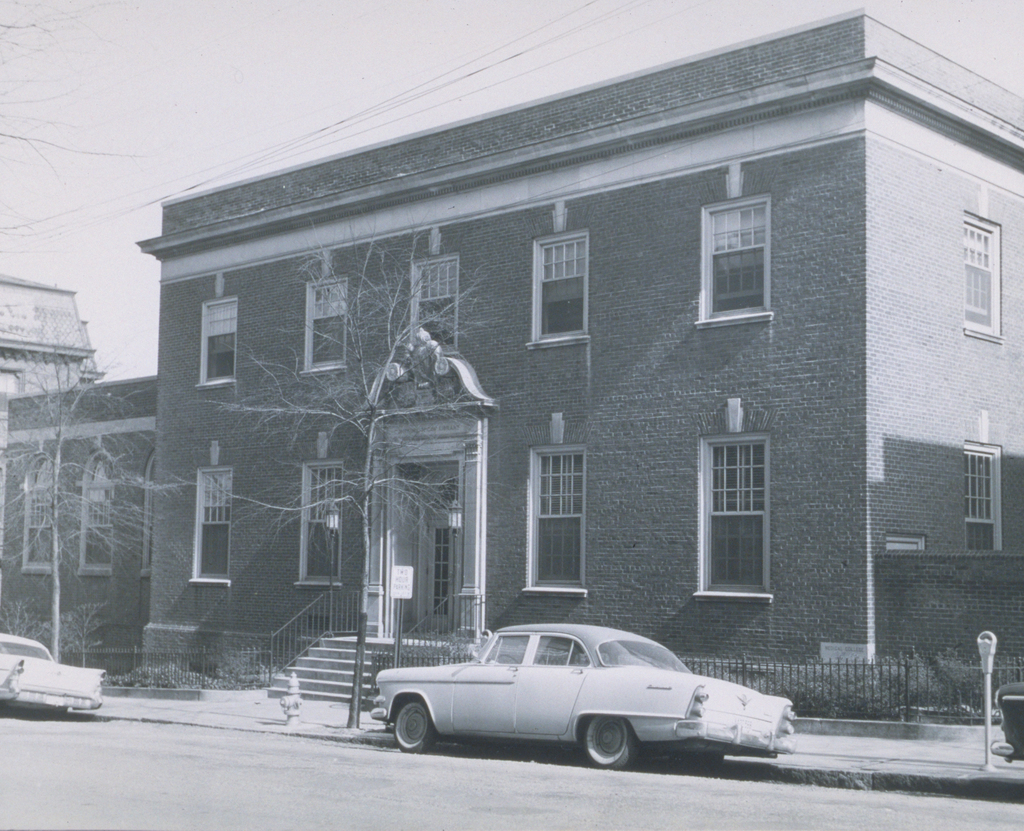Car: (373, 617, 810, 774), (0, 633, 108, 722), (986, 679, 1023, 759)
